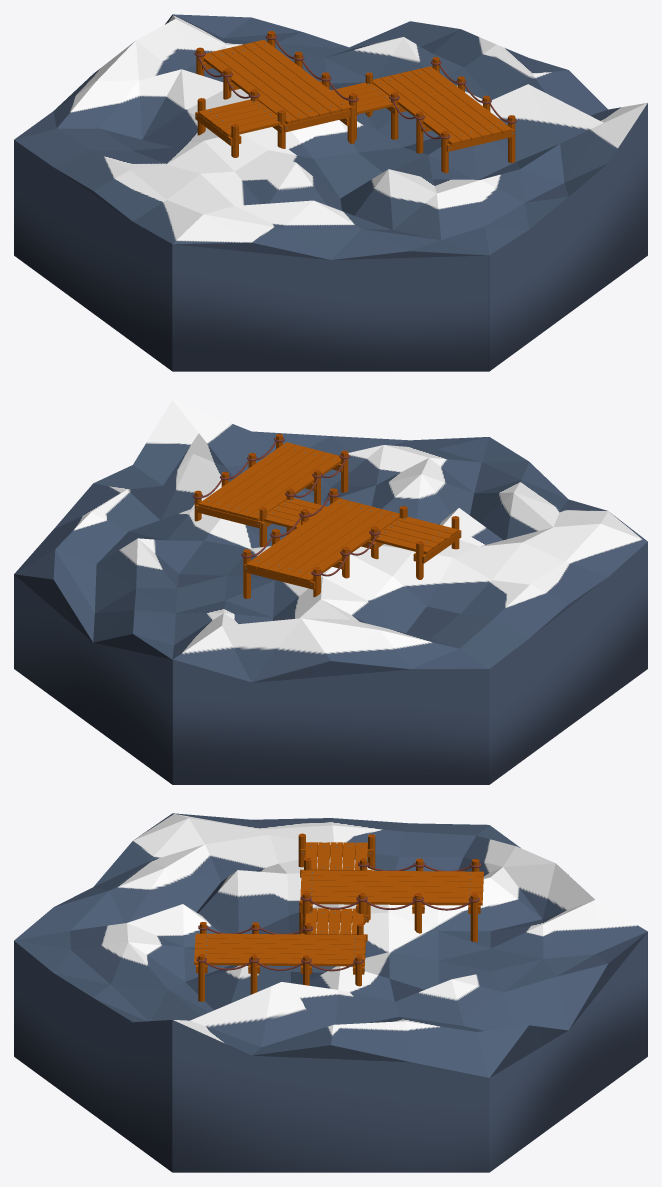
Rendered from harbor.glb.
3 renders of one model, top to bottom at view 1: azimuth 30°, elevation 25°; view 2: azimuth 150°, elevation 25°; view 3: azimuth 270°, elevation 25°, orthographic.
Visible parts, largest first — view 1: Cylinder, Cylinder.048_Material.001_0.001, Cylinder.048_Material.001_0.002, Cylinder.048_Material.002_0.001, Cylinder.048_Material.002_0.002; view 2: Cylinder, Cylinder.048_Material.001_0.001, Cylinder.048_Material.001_0.002, Cylinder.048_Material.002_0.001, Cylinder.048_Material.002_0.002; view 3: Cylinder, Cylinder.048_Material.001_0.001, Cylinder.048_Material.001_0.002, Cylinder.048_Material.002_0.001, Cylinder.048_Material.002_0.002.
Part boxes in pixels (x1,y1,x2,y2): Cylinder: (14, 14, 647, 371); Cylinder.048_Material.001_0.001: (195, 31, 356, 157); Cylinder.048_Material.001_0.002: (319, 57, 515, 173); Cylinder.048_Material.002_0.001: (194, 34, 358, 102); Cylinder.048_Material.002_0.002: (389, 60, 516, 139); Cylinder: (14, 400, 647, 784); Cylinder.048_Material.001_0.001: (243, 488, 461, 598); Cylinder.048_Material.001_0.002: (194, 434, 348, 547); Cylinder.048_Material.002_0.001: (241, 492, 380, 576); Cylinder.048_Material.002_0.002: (193, 437, 349, 498); Cylinder: (14, 813, 647, 1172); Cylinder.048_Material.001_0.001: (298, 833, 483, 942); Cylinder.048_Material.001_0.002: (194, 900, 370, 1001); Cylinder.048_Material.002_0.001: (300, 862, 481, 910); Cylinder.048_Material.002_0.002: (196, 925, 363, 971).
Bounding box in the file's own units: 1.73 × 0.5834 × 2.
Materials: 10 (2 with a texture image).
